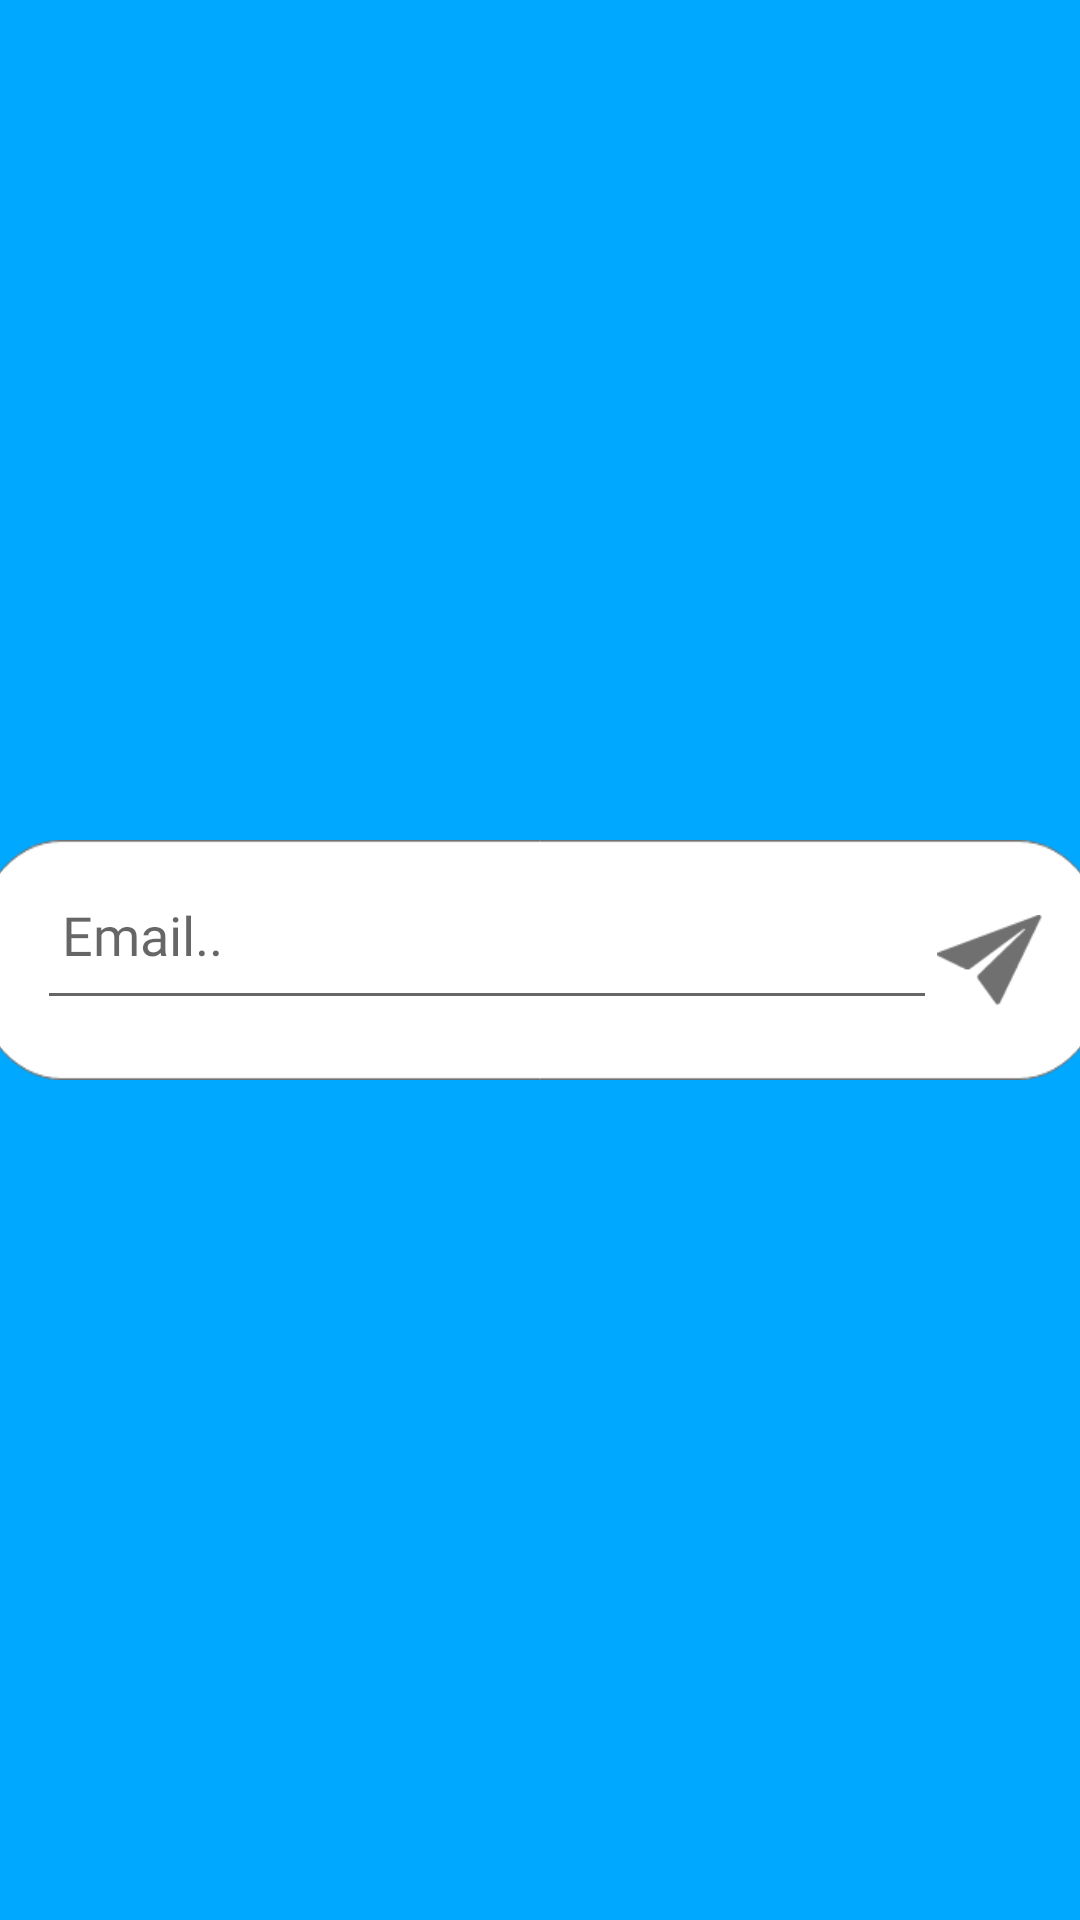

Icons on this 1080 x 1920 Android screen, each with its box as (x1, y1, x2, y2):
send: (937, 915, 1042, 1005)
